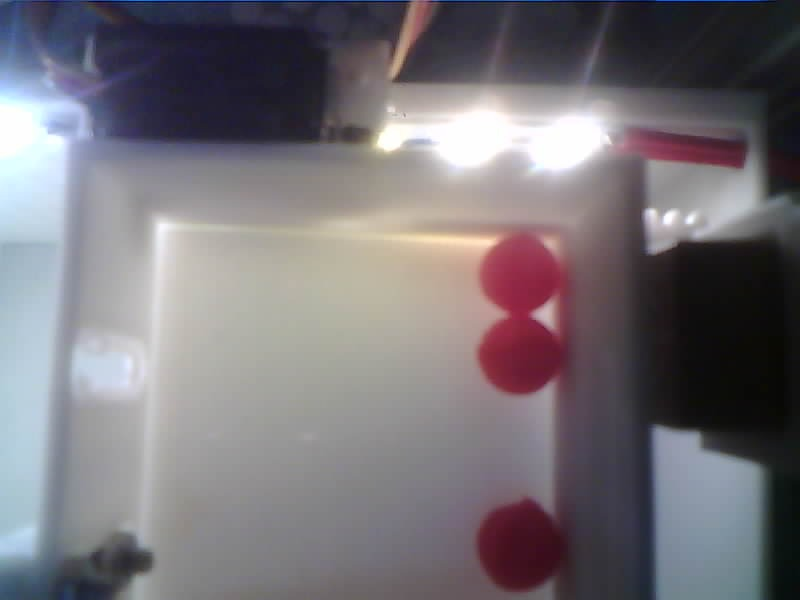Plastic: (476, 499, 571, 593), (477, 314, 559, 392), (480, 236, 558, 313)
